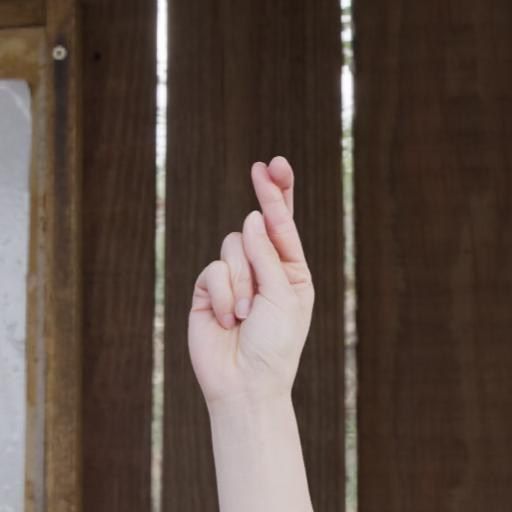R: (148, 134, 342, 418)
